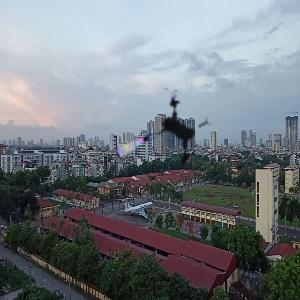drone: (117, 91, 222, 196)
